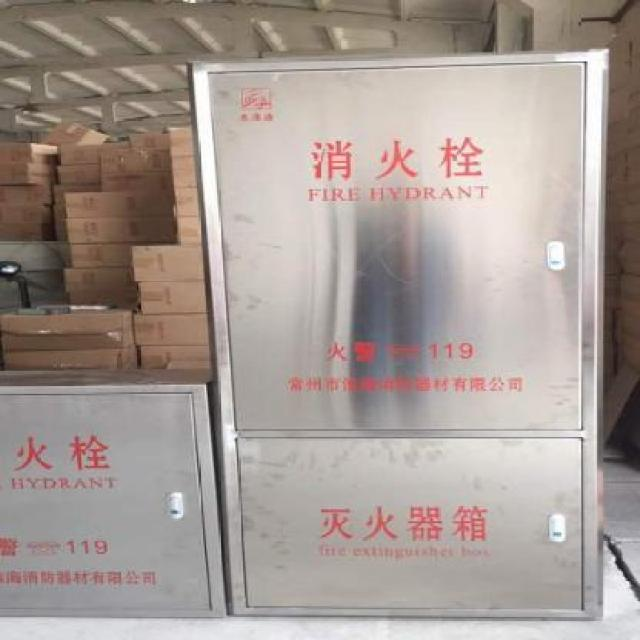firehydrant: (186, 43, 619, 626), (0, 361, 232, 623)
